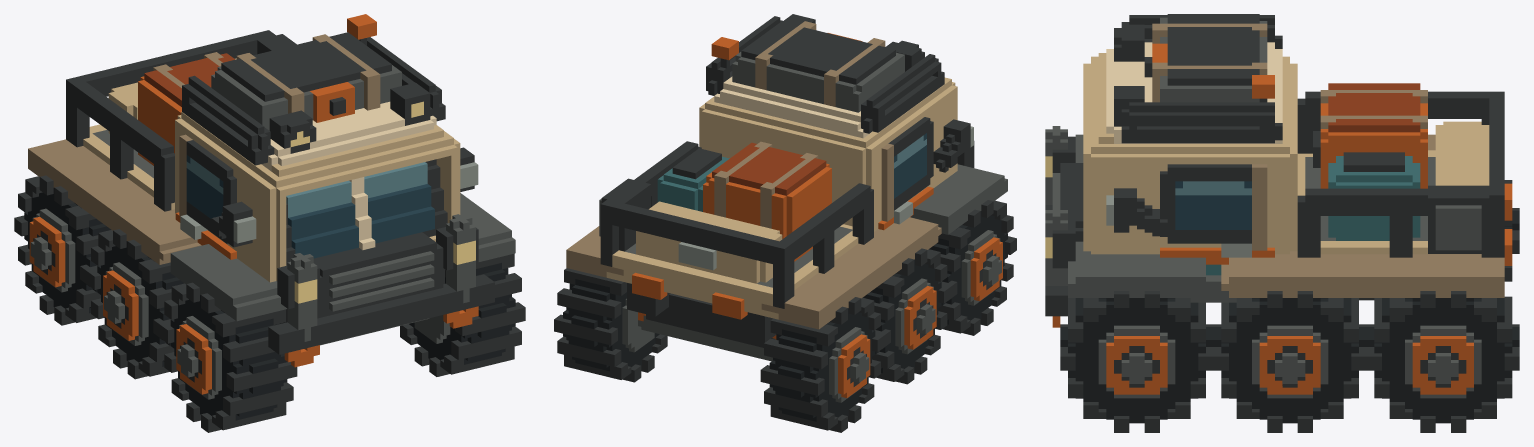
The model's file is exploration_rover.glb.
3 views of the same model, side by side, from view 1: azimuth 30°, elevation 25°; view 2: azimuth 150°, elevation 25°; view 3: azimuth 270°, elevation 25° (orthographic). The views are drawn at different scales.
Visible parts, largest first — view 1: exploration_rover; view 2: exploration_rover; view 3: exploration_rover.
Boxes of the visible parts, bbox=[...] form: exploration_rover: bbox=[14, 14, 525, 432]; exploration_rover: bbox=[554, 14, 1016, 432]; exploration_rover: bbox=[1045, 14, 1519, 432].
Bounding box in the file's own units: 4.5 × 4.14 × 5.58.
